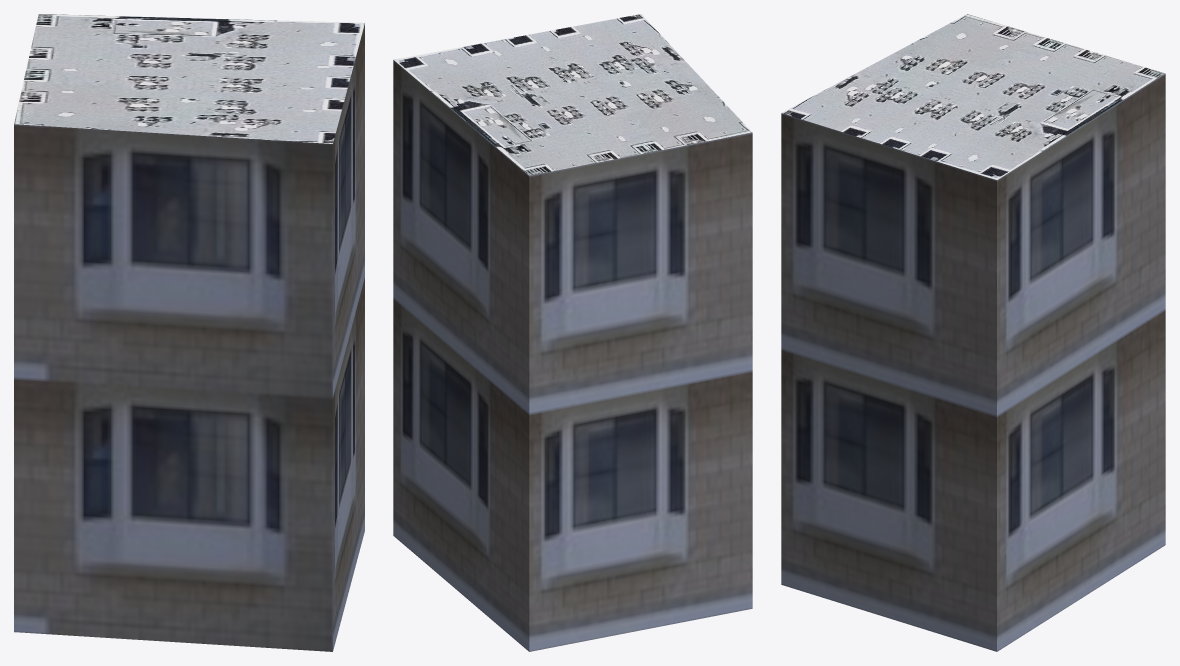
The model's file is ResTex__1105.fbx.
3 views of the same model, side by side, from view 1: azimuth 30°, elevation 25°; view 2: azimuth 150°, elevation 25°; view 3: azimuth 270°, elevation 25° (orthographic). The views are drawn at different scales.
Visible parts, largest first — view 1: CityEngineMaterial_3_m, CityEngineMaterial_4_m; view 2: CityEngineMaterial_3_m, CityEngineMaterial_4_m; view 3: CityEngineMaterial_3_m, CityEngineMaterial_4_m.
Part boxes in pixels (<box>): CityEngineMaterial_3_m: <box>14,24,364,651</box>; CityEngineMaterial_4_m: <box>14,14,364,143</box>; CityEngineMaterial_3_m: <box>393,60,752,651</box>; CityEngineMaterial_4_m: <box>394,14,751,175</box>; CityEngineMaterial_3_m: <box>781,73,1165,651</box>; CityEngineMaterial_4_m: <box>781,14,1164,179</box>.
Bounding box in the file's own units: 4.54 × 6 × 4.43.
2 materials, 2 textured.
